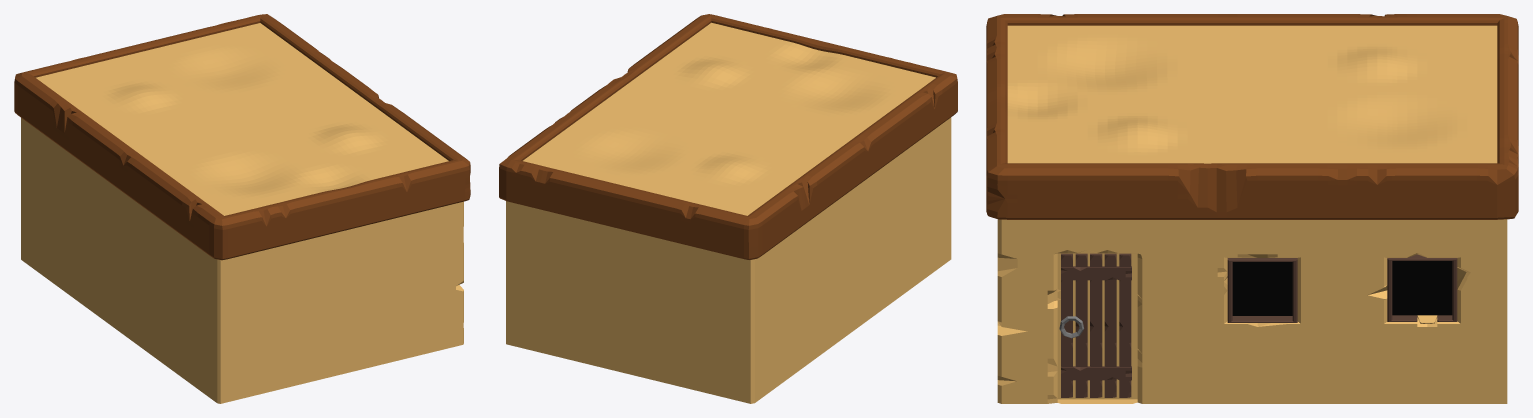
The model's file is DesertHouse3.fbx.
3 views of the same model, side by side, from view 1: azimuth 30°, elevation 25°; view 2: azimuth 150°, elevation 25°; view 3: azimuth 270°, elevation 25° (orthographic). The views are drawn at different scales.
Visible parts, largest first — view 1: Cube.001; view 2: Cube.001; view 3: Cube.001, Cube.002.
Part boxes in pixels (left/top/right/bottom): Cube.001: left=14, top=14, right=470, bottom=403; Cube.001: left=499, top=14, right=957, bottom=403; Cube.001: left=986, top=14, right=1518, bottom=403; Cube.002: left=1059, top=253, right=1131, bottom=397.
Size of the model in its own units: 209 by 144 by 292.
